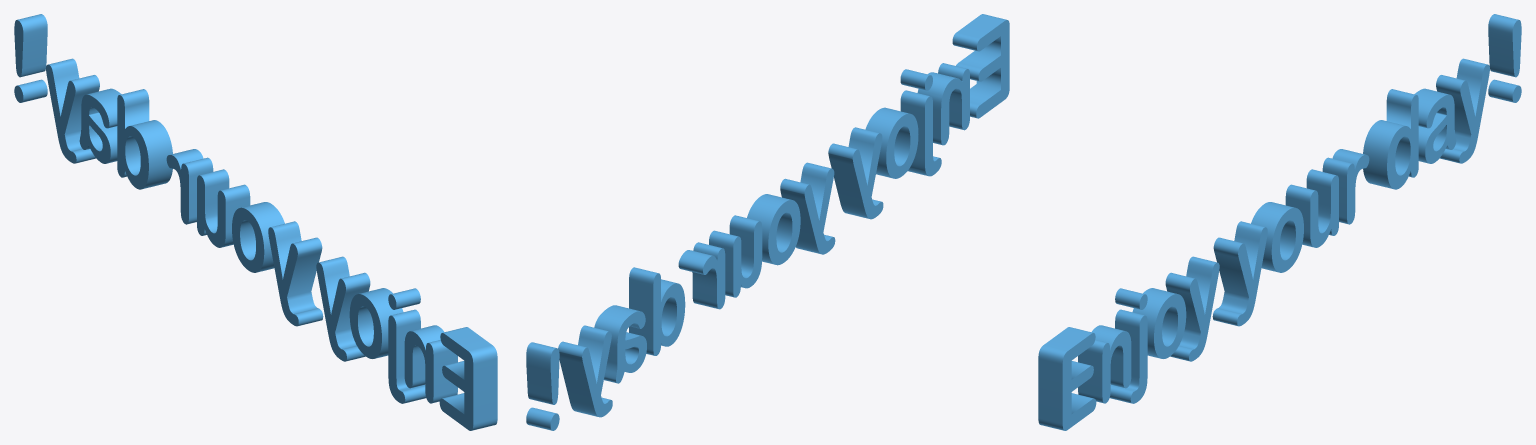
Rendered from enjoyyourday.glb.
The picture shows the model from 3 angles, left to right: view 1: azimuth 30°, elevation 25°; view 2: azimuth 150°, elevation 25°; view 3: azimuth 330°, elevation 25°; orthographic projection.
Visible parts, largest first — view 1: 文本; view 2: 文本; view 3: 文本.
Part boxes in pixels (x1,y1,x2,y2): 文本: (14, 14, 497, 430); 文本: (526, 14, 1009, 430); 文本: (1038, 14, 1521, 430).
Size of the model in its own units: 0.2 by 0.8105 by 6.52.
